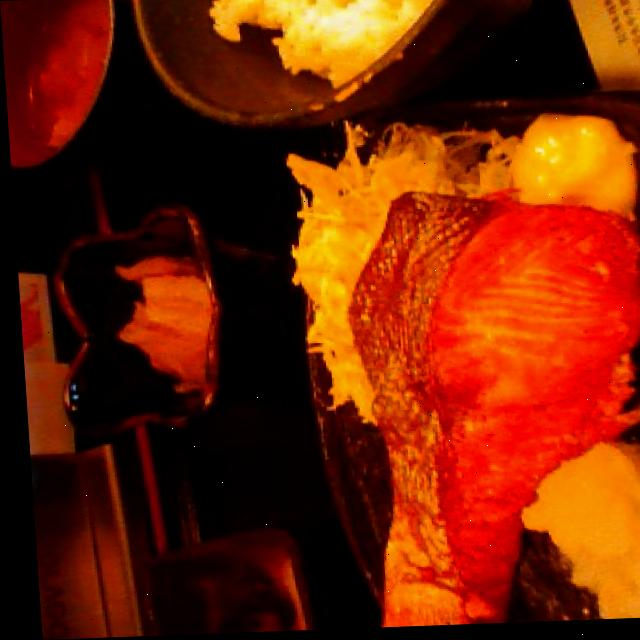熟制海鲜: (299, 163, 640, 632)
